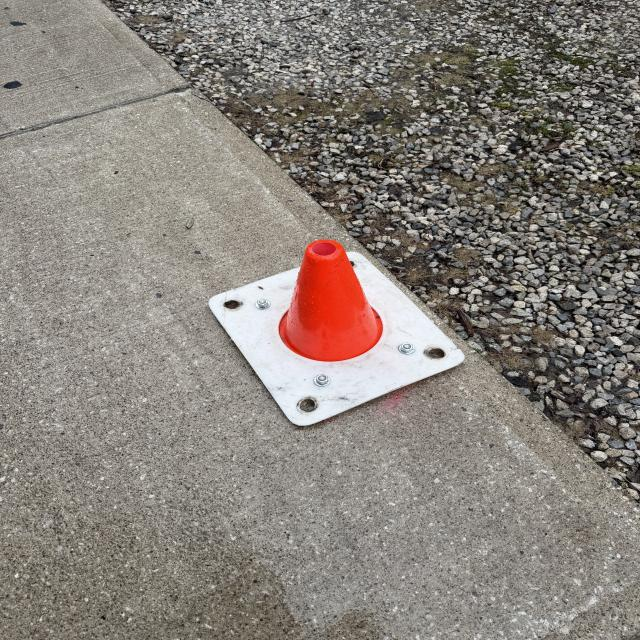Traffic Cone: (208, 239, 468, 428)
